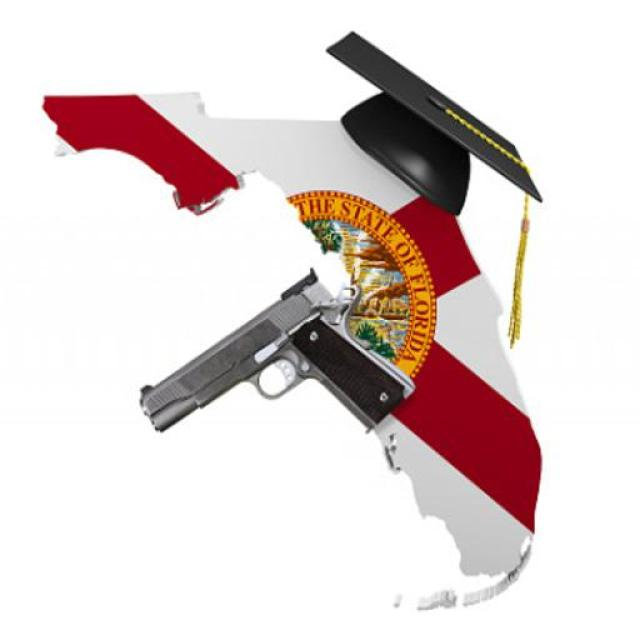pistol: (144, 263, 433, 444)
